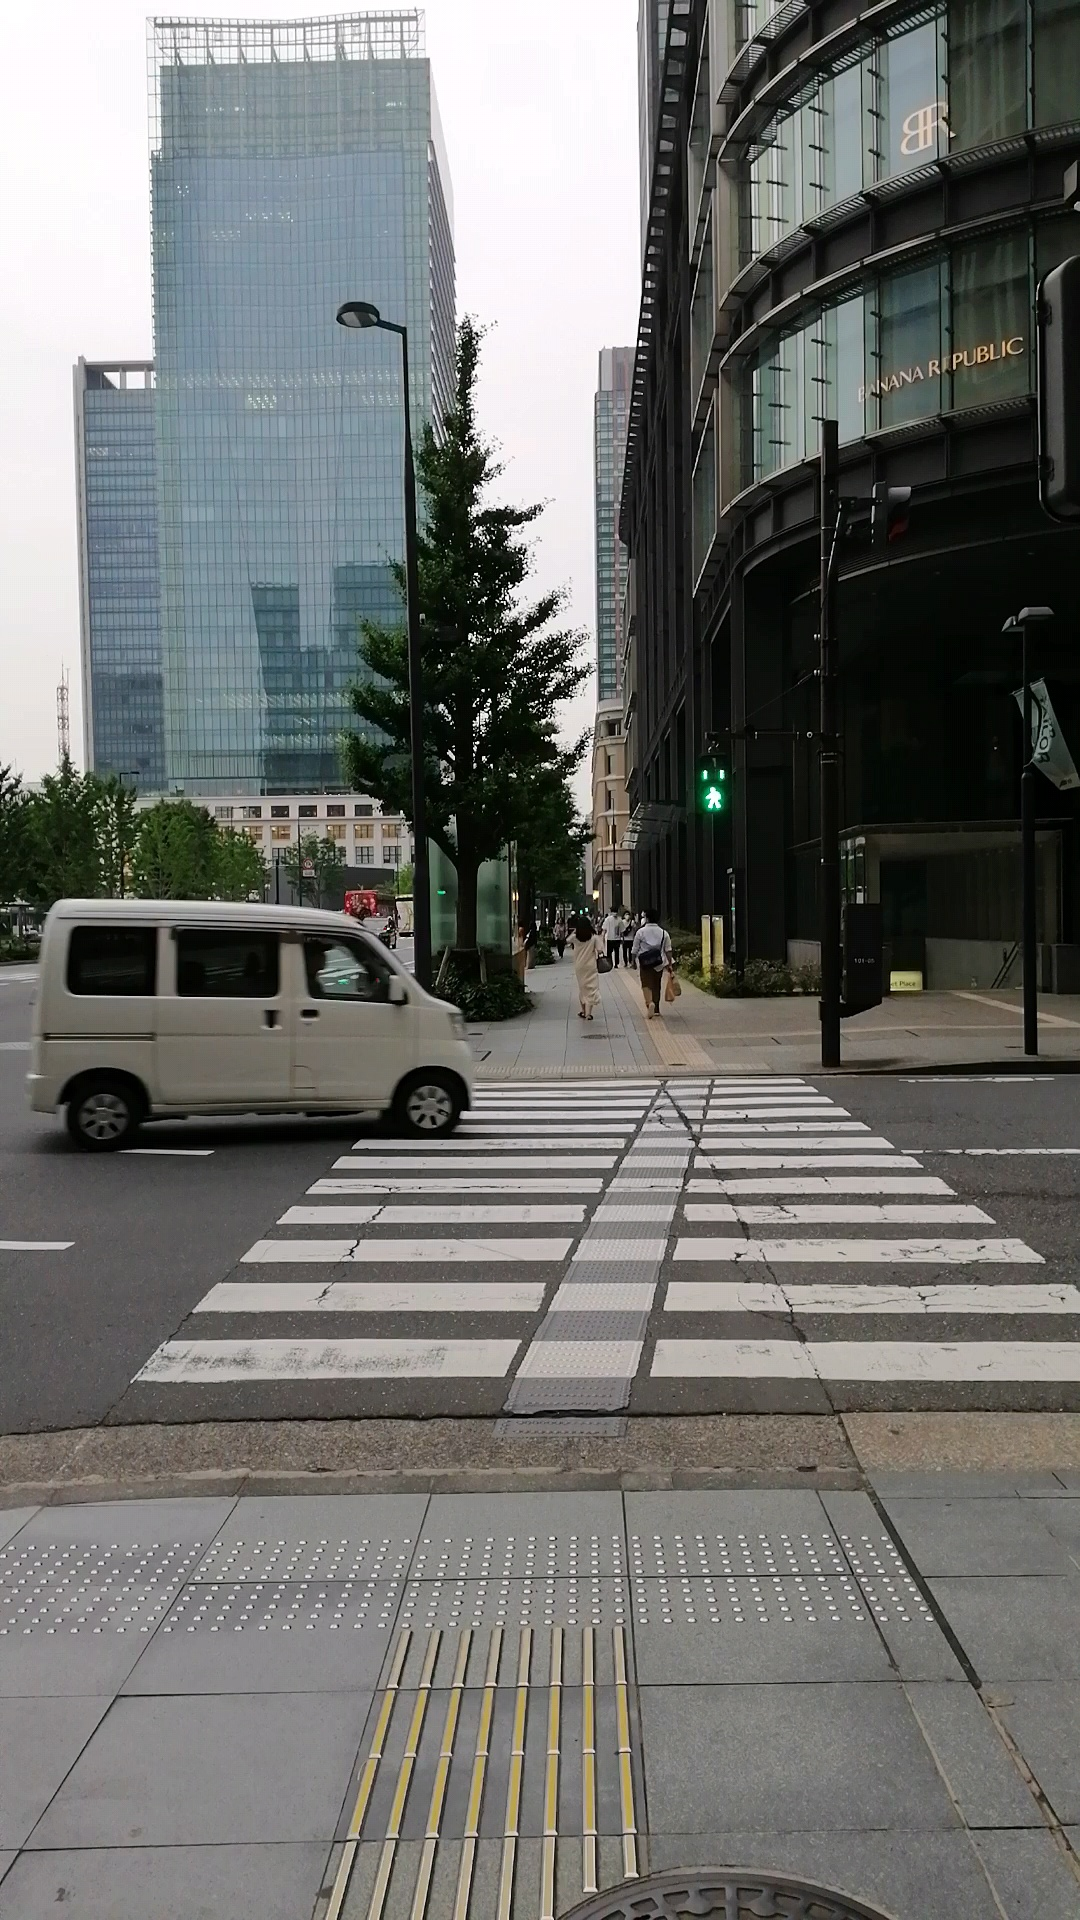green: (694, 754, 731, 815)
